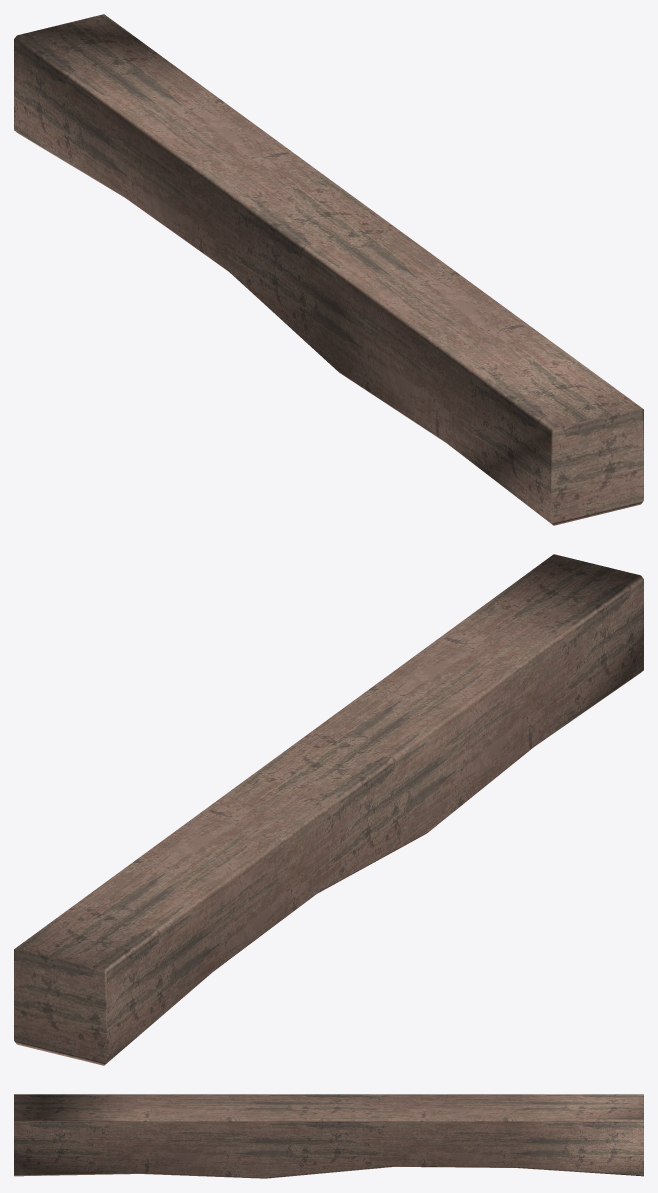
Rendered from SM_beam_02.glb.
3 views of the same model, one above another, from view 1: azimuth 30°, elevation 25°; view 2: azimuth 150°, elevation 25°; view 3: azimuth 270°, elevation 25° (orthographic). The views are drawn at different scales.
Visible parts, largest first — view 1: SM_beam_02; view 2: SM_beam_02; view 3: SM_beam_02.
Part boxes in pixels (x1,y1,x2,y2): SM_beam_02: (14,14,643,525); SM_beam_02: (14,554,643,1065); SM_beam_02: (14,1094,643,1178).
Size of the model in its own units: 0.5 by 0.5207 by 5.
Materials: 1 (1 with a texture image).
